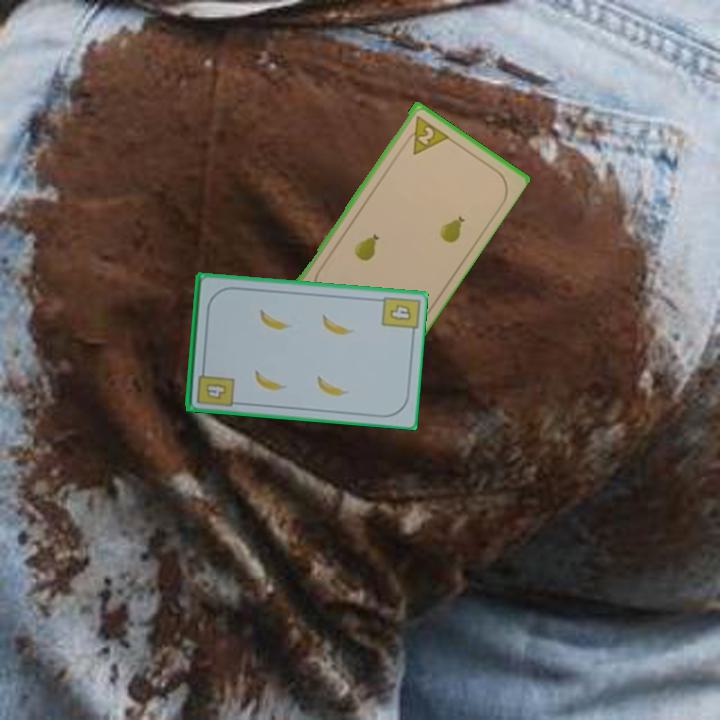2p: (400, 111, 450, 158)
4b: (193, 363, 236, 409), (387, 301, 414, 323)
